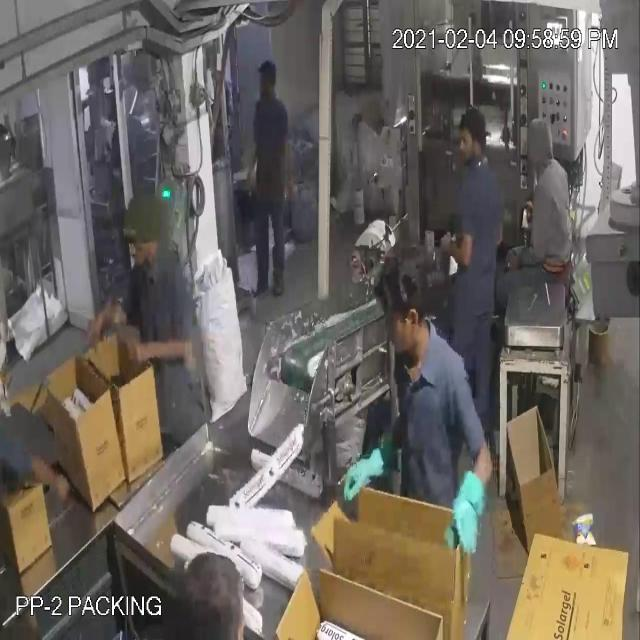gloves: (439, 430, 495, 578), (333, 412, 417, 502)
no-gloves: (4, 420, 74, 514), (124, 326, 205, 386), (430, 209, 489, 282), (80, 284, 133, 349)
